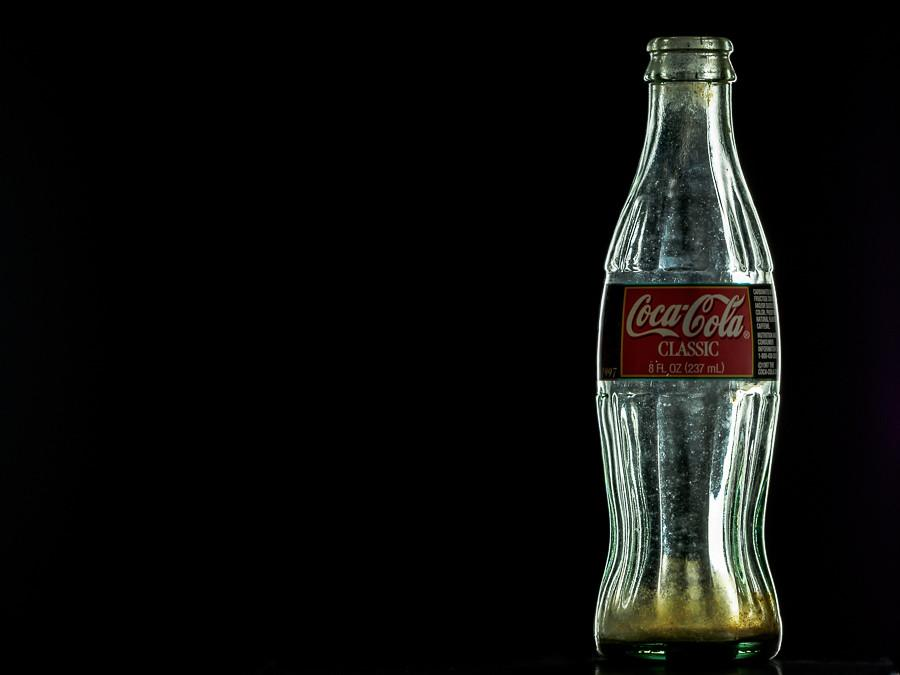bottle: (594, 35, 785, 666)
